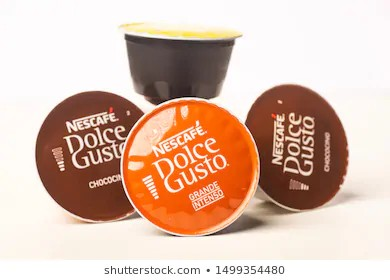nescafe-dolce: (125, 98, 263, 237), (32, 84, 129, 231), (249, 79, 348, 215), (116, 13, 240, 95)
